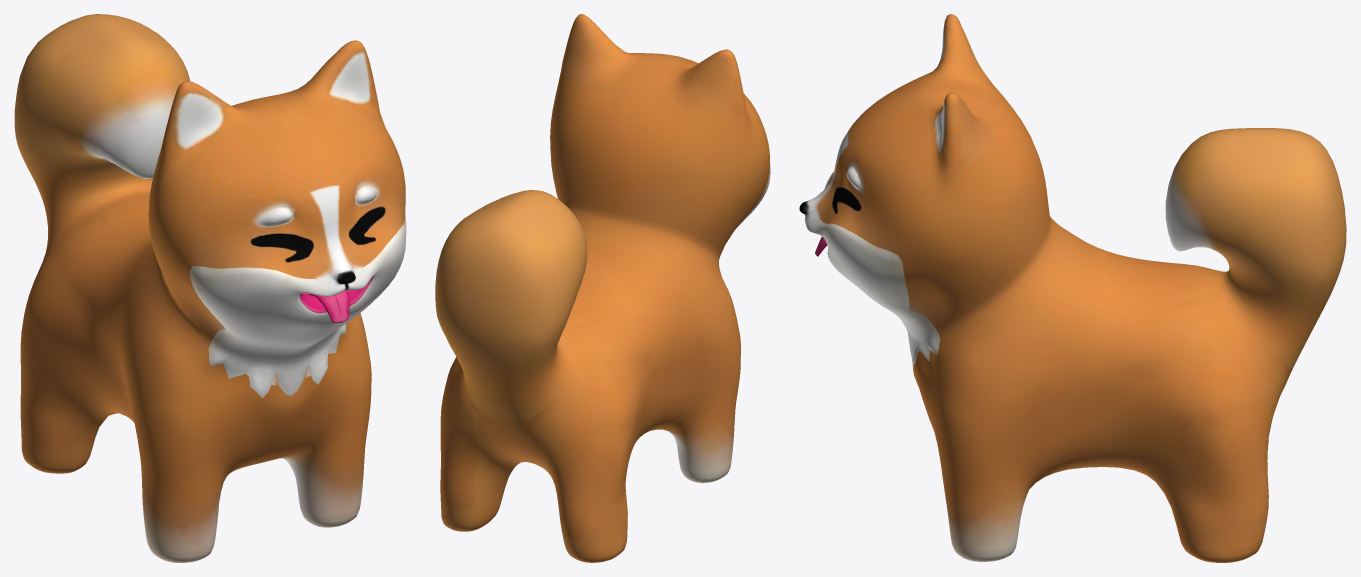
The model's file is free_toon_shiba_inu_3d_model.glb.
3 renders of one model, left to right at view 1: azimuth 30°, elevation 25°; view 2: azimuth 150°, elevation 25°; view 3: azimuth 270°, elevation 25°, orthographic. The views are drawn at different scales.
Visible parts, largest first — view 1: Shiba inu; view 2: Shiba inu; view 3: Shiba inu.
Part boxes in pixels (x1,y1,x2,y2): Shiba inu: (14,14,406,562); Shiba inu: (435,14,770,562); Shiba inu: (799,14,1346,562).
Bounding box in the file's own units: 0.2335 × 0.4602 × 0.4899.
1 material, 1 textured.
